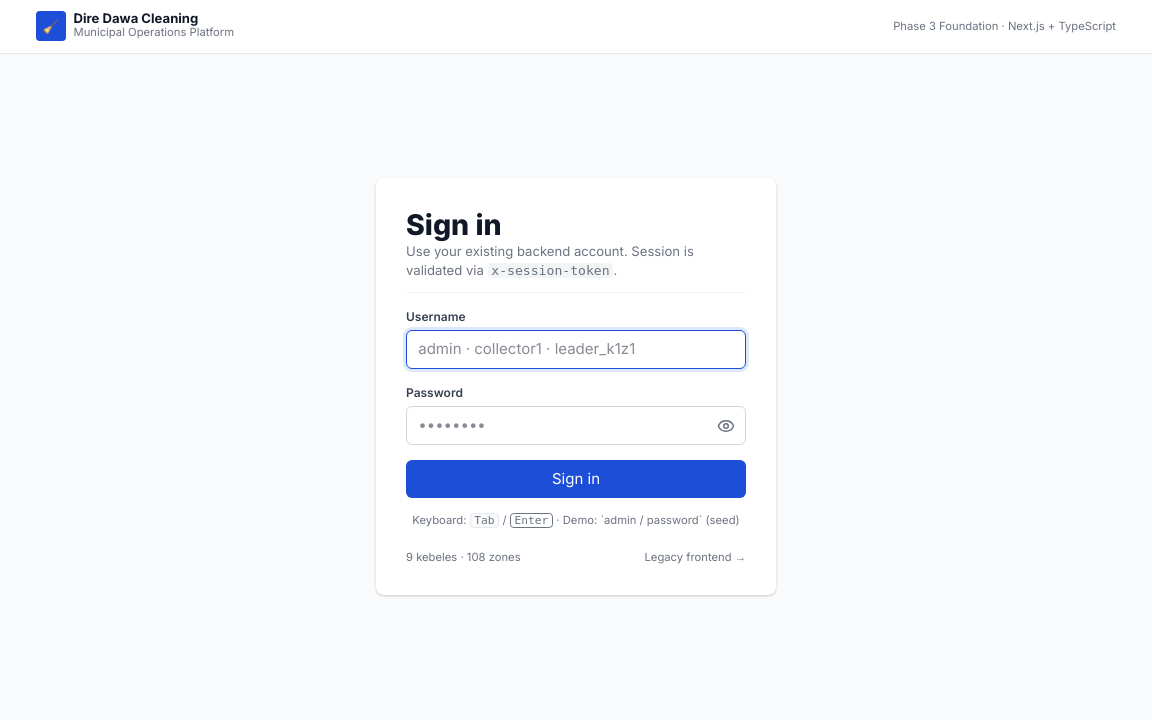
Test: Login page › validates required fields
Click the button "Sign in" at (576, 479), box [406,460,746,498]
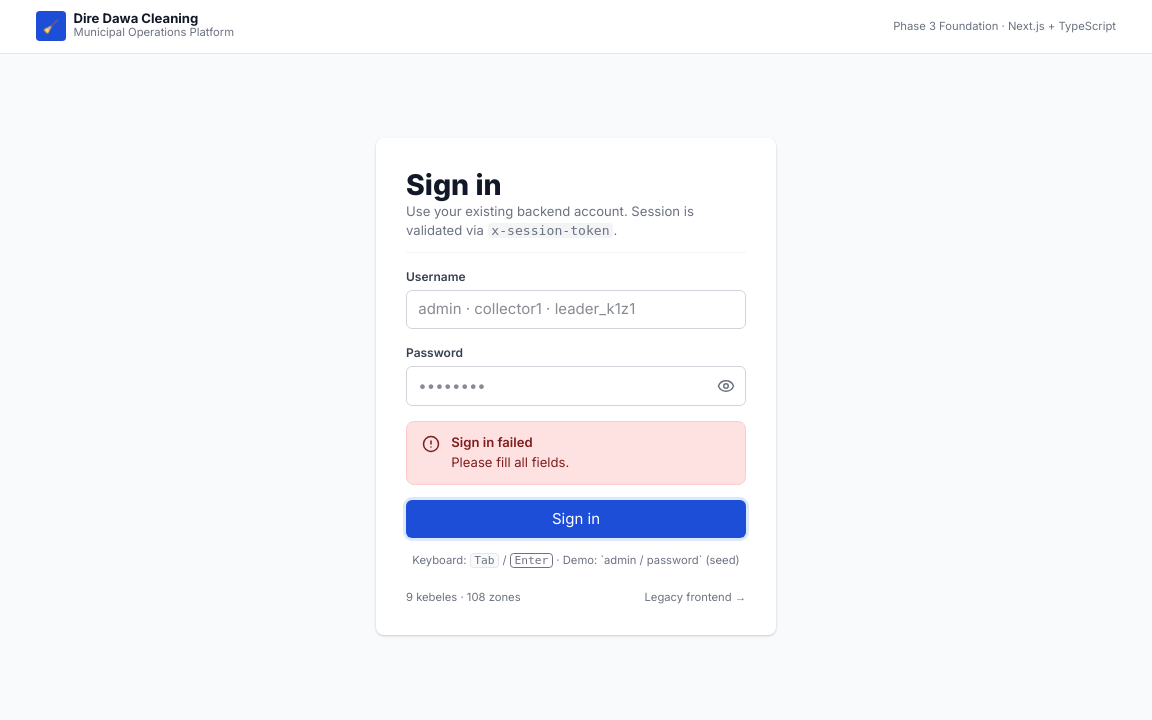
Expected: the text "Please fill all fields." is shown, [451,452,569,473]
